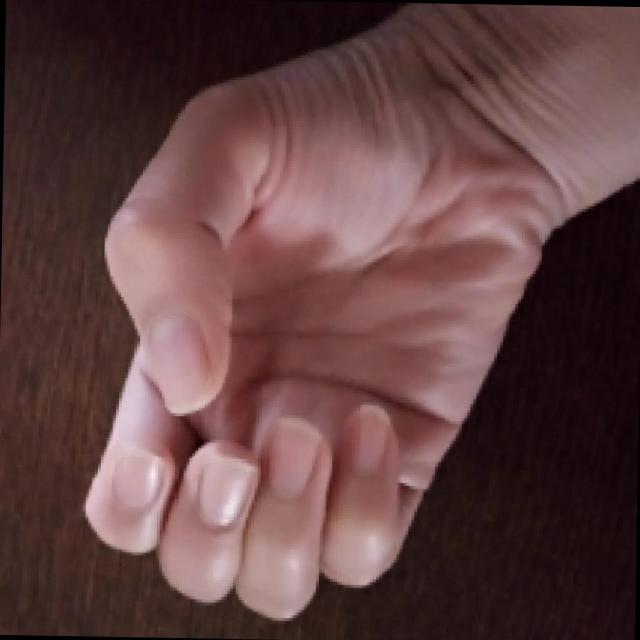Nail: (151, 315, 208, 410), (271, 416, 318, 495), (200, 458, 248, 525), (114, 448, 159, 506), (352, 405, 387, 472)
